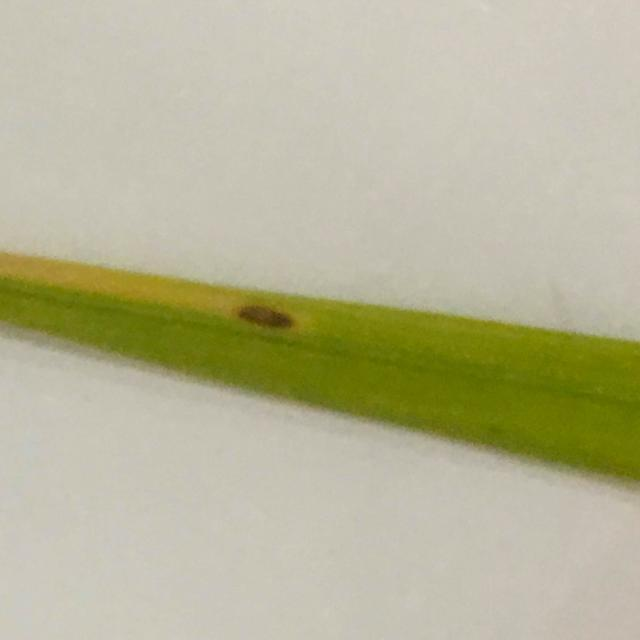Blast: (230, 304, 306, 334)
